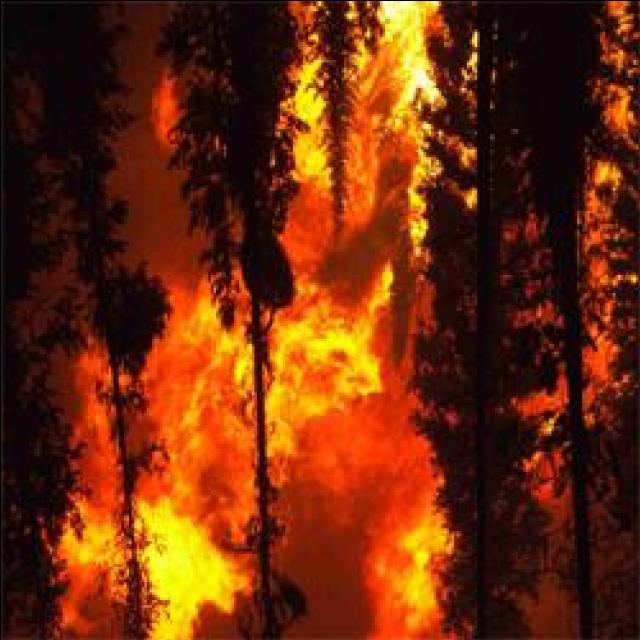fire: (290, 312, 370, 405), (156, 508, 224, 608), (396, 516, 434, 624), (387, 2, 425, 94), (302, 98, 320, 179), (76, 534, 106, 566), (404, 195, 419, 248)
smoke: (313, 438, 395, 508), (315, 554, 354, 624), (140, 186, 170, 252), (134, 46, 152, 88)
